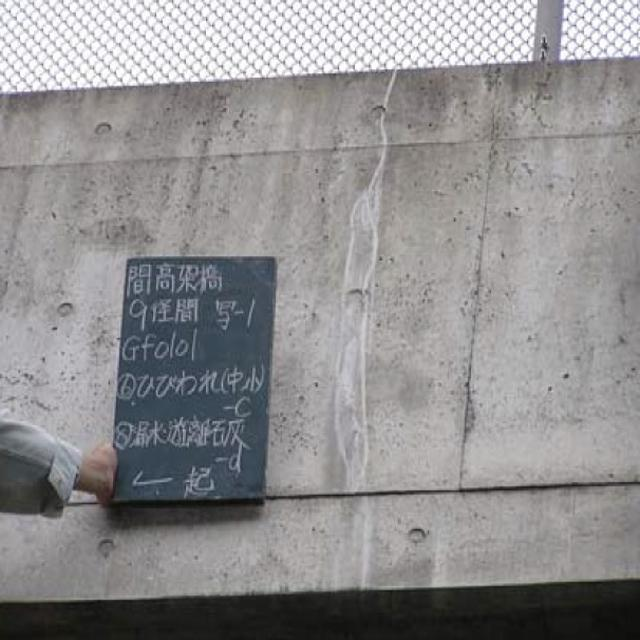freelime: (336, 151, 388, 486)
